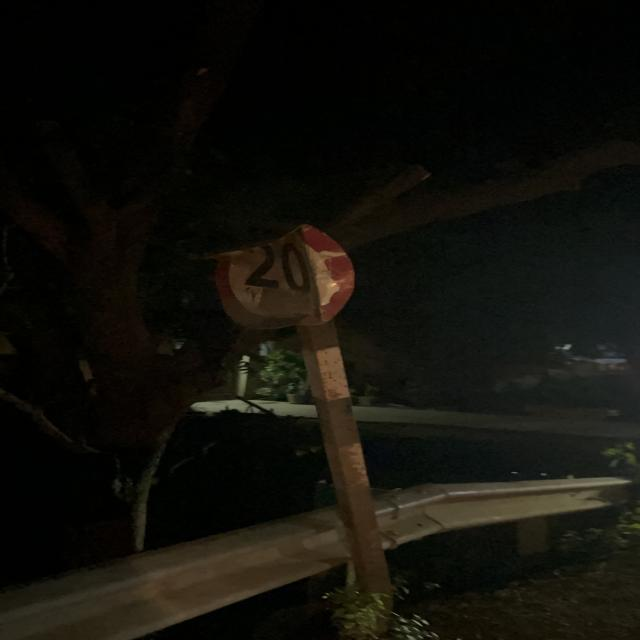speedlimit_20: (200, 211, 370, 337)
